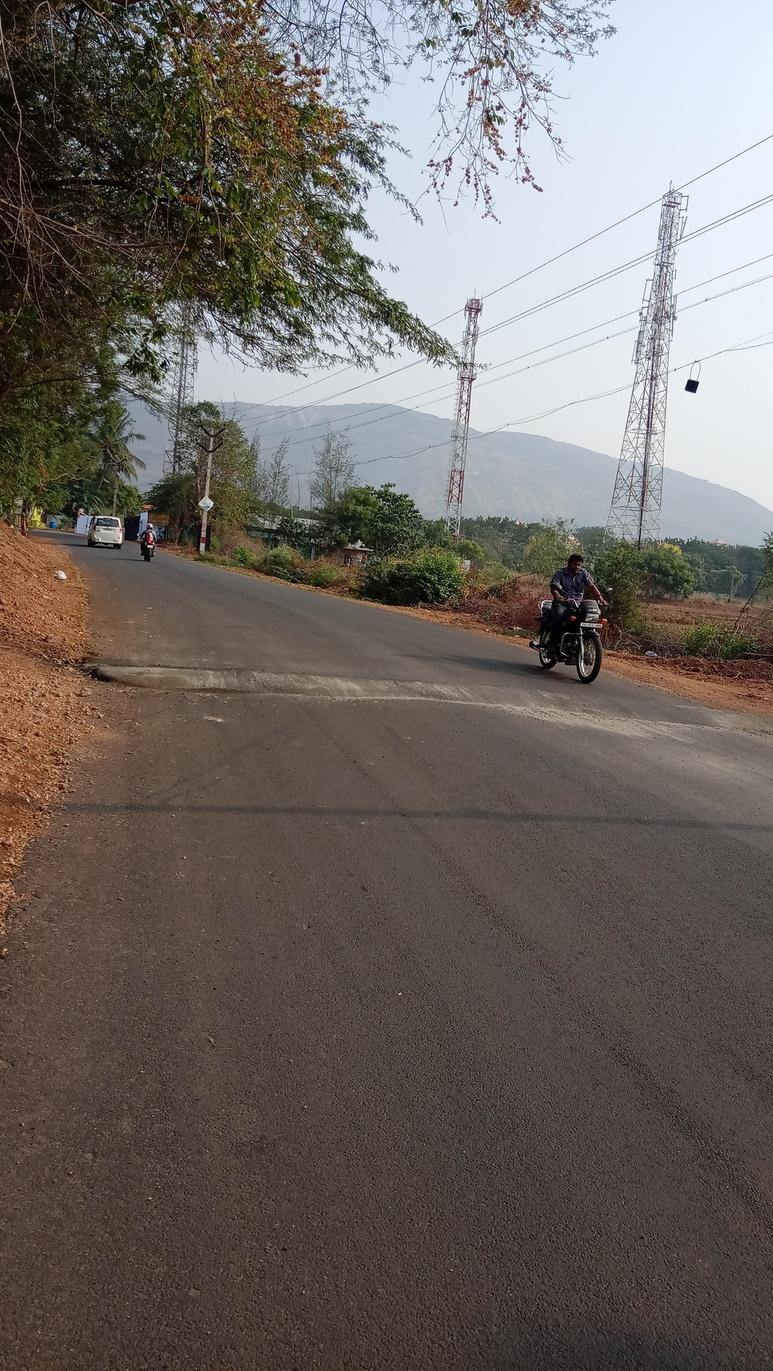speed-bump: (96, 661, 773, 734)
